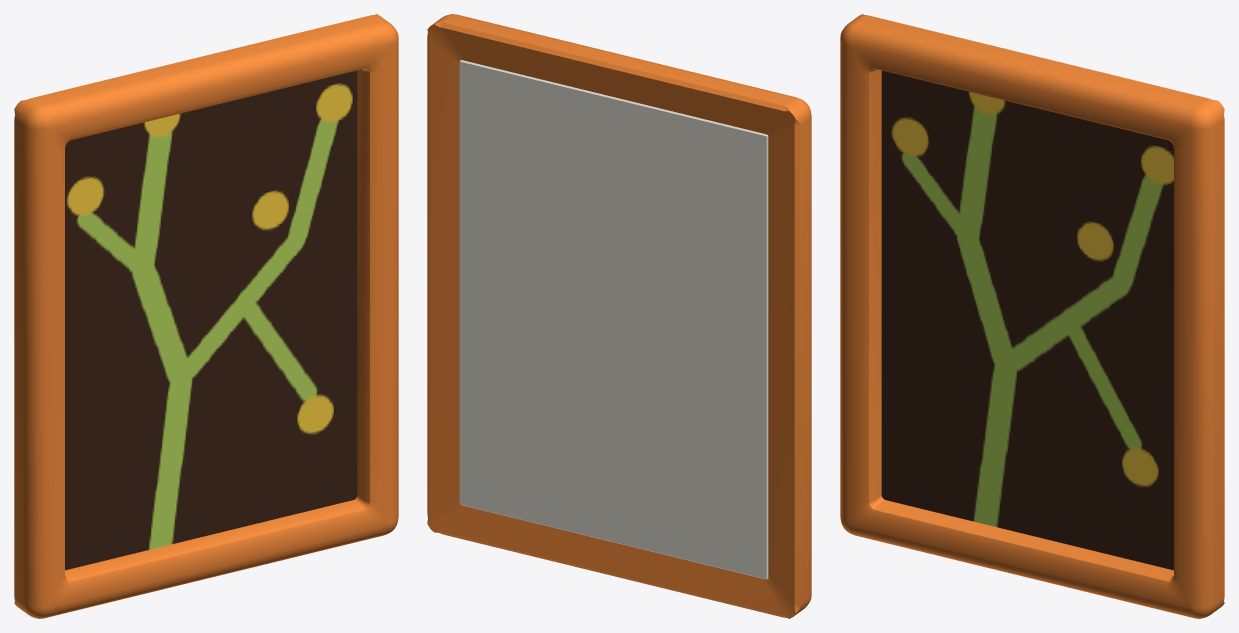
The model's file is quadro_galhos_frutos.glb.
3 views of the same model, side by side, from view 1: azimuth 30°, elevation 25°; view 2: azimuth 150°, elevation 25°; view 3: azimuth 330°, elevation 25° (orthographic).
Visible parts, largest first — view 1: quadro_galhos_frutos; view 2: quadro_galhos_frutos; view 3: quadro_galhos_frutos.
Boxes of the visible parts, x1=… form: quadro_galhos_frutos: x1=14, y1=14, x2=398, y2=618; quadro_galhos_frutos: x1=427, y1=14, x2=811, y2=618; quadro_galhos_frutos: x1=840, y1=14, x2=1224, y2=618.
Size of the model in its own units: 0.372 by 0.4887 by 0.035.
Materials: 2 (2 with a texture image).
